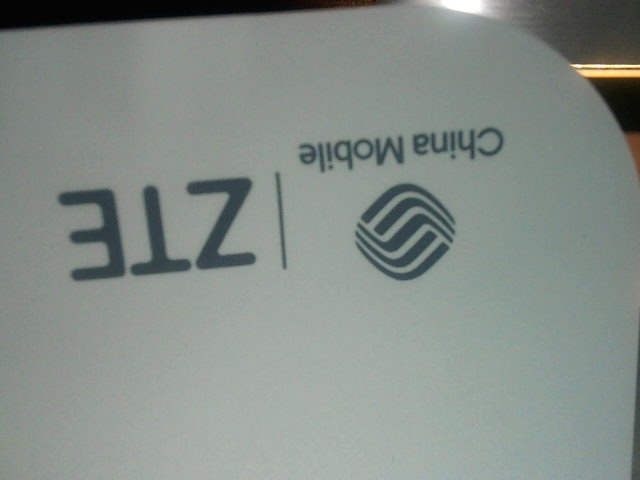AL_ZTEChinaMobile: (53, 127, 528, 289)
